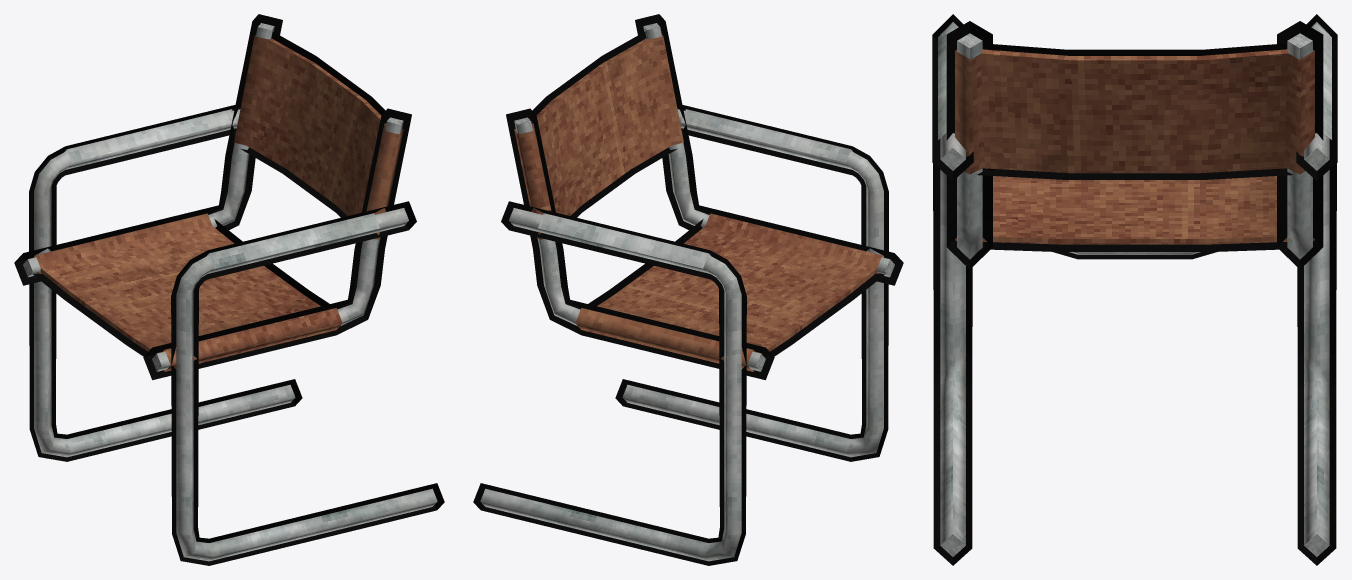
File: PipeMetalChair.glb
3 renders of one model, left to right at view 1: azimuth 30°, elevation 25°; view 2: azimuth 150°, elevation 25°; view 3: azimuth 270°, elevation 25°, orthographic. The views are drawn at different scales.
Visible parts, largest first — view 1: PipeMetalChair; view 2: PipeMetalChair; view 3: PipeMetalChair.
Boxes of the visible parts, x1,y1,x2,y2 form: PipeMetalChair: (14, 14, 444, 565); PipeMetalChair: (473, 14, 903, 565); PipeMetalChair: (932, 14, 1337, 565).
Size of the model in its own units: 0.6689 by 0.9225 by 0.6584.
2 materials, 1 textured.
